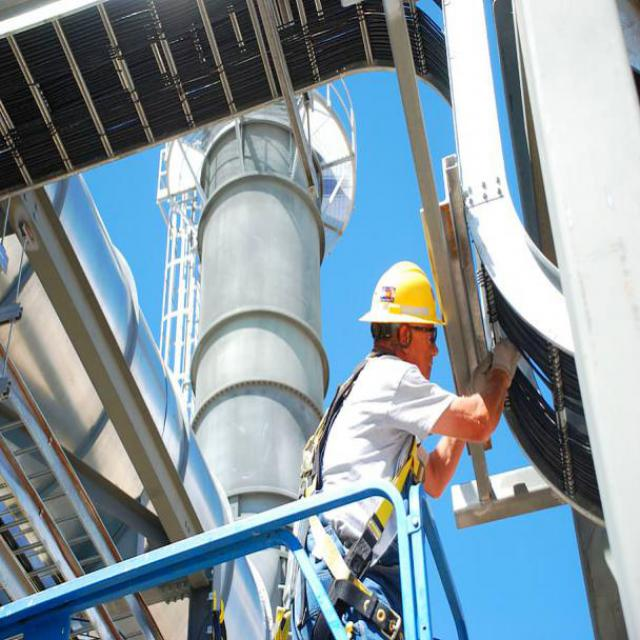gloves: (465, 340, 532, 391)
helmet: (362, 252, 444, 354)
vest: (302, 375, 446, 629)
